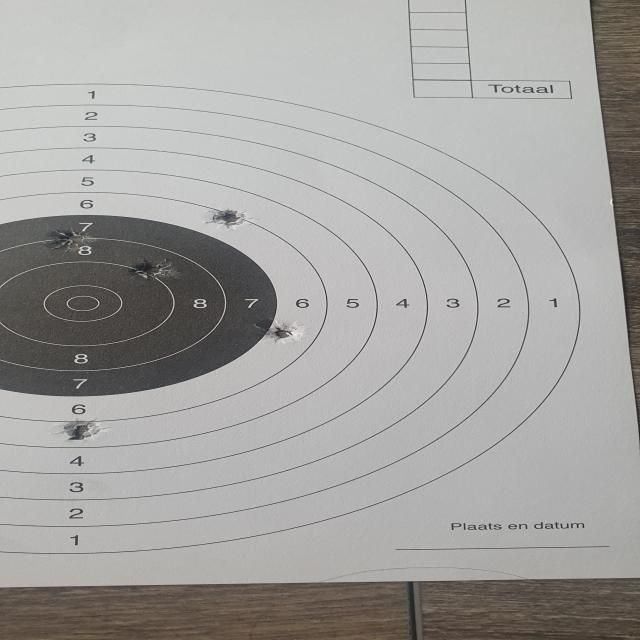6: (52, 418, 110, 442), (204, 208, 258, 230)
7: (253, 320, 306, 346)
8: (42, 228, 98, 252)
9: (128, 257, 179, 281)
Target: (0, 80, 640, 554)
black_contour: (0, 214, 280, 396)
